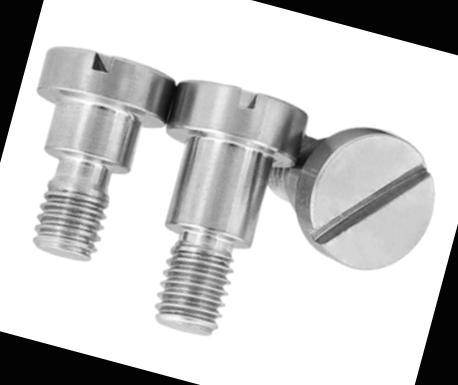screw: (277, 109, 450, 287)
